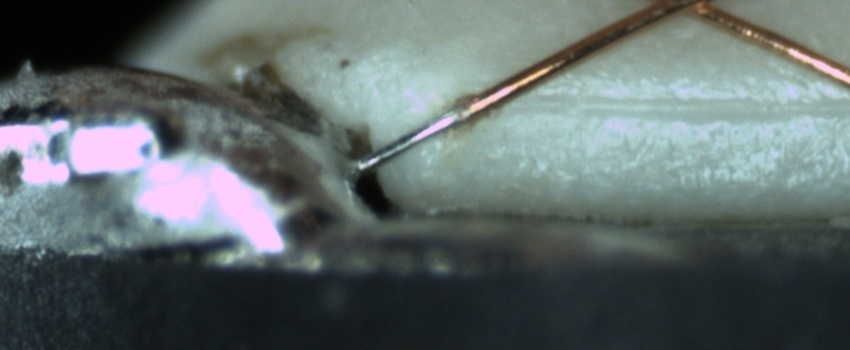CL: (650, 0, 741, 29)
DL: (505, 73, 849, 132)
TS: (359, 105, 470, 171)
TTCW: (350, 82, 499, 174)
